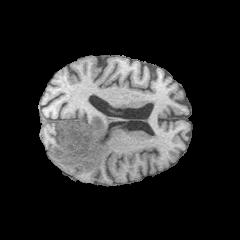glioma: (51, 115, 119, 173)
